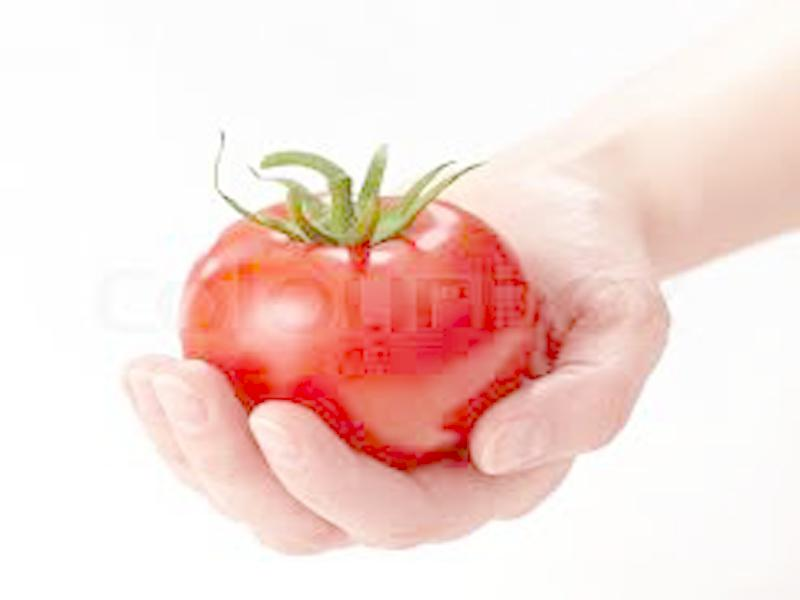Tomato: (179, 190, 530, 465)
